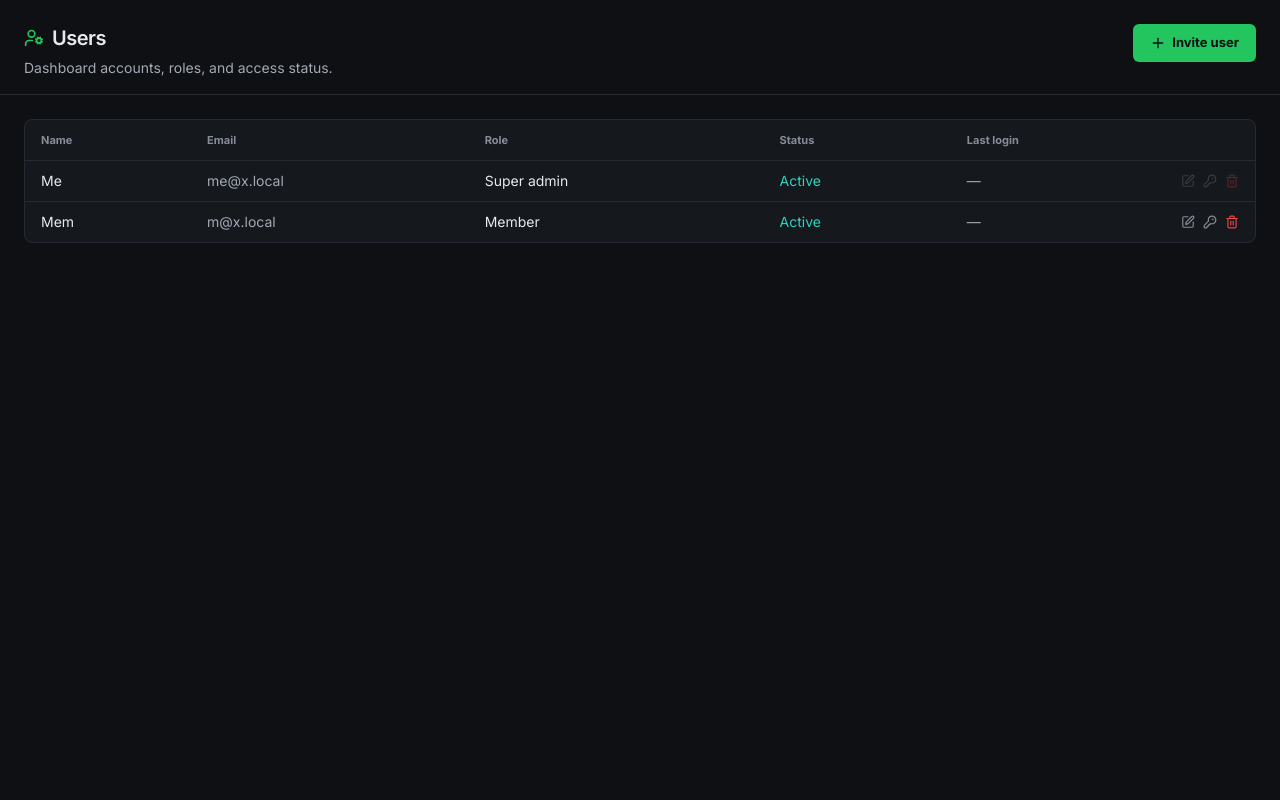
Test: Users page — reset password › shows the link once when the server could not email it
This screenshot has width=1280, height=800.
Expected: the text "m@x.local" is shown, x1=191 y1=202 x2=469 y2=242
Click the button named "Reset password" in the row of "m@x.local" at (1210, 222), box x1=1203 y1=215 x2=1217 y2=229
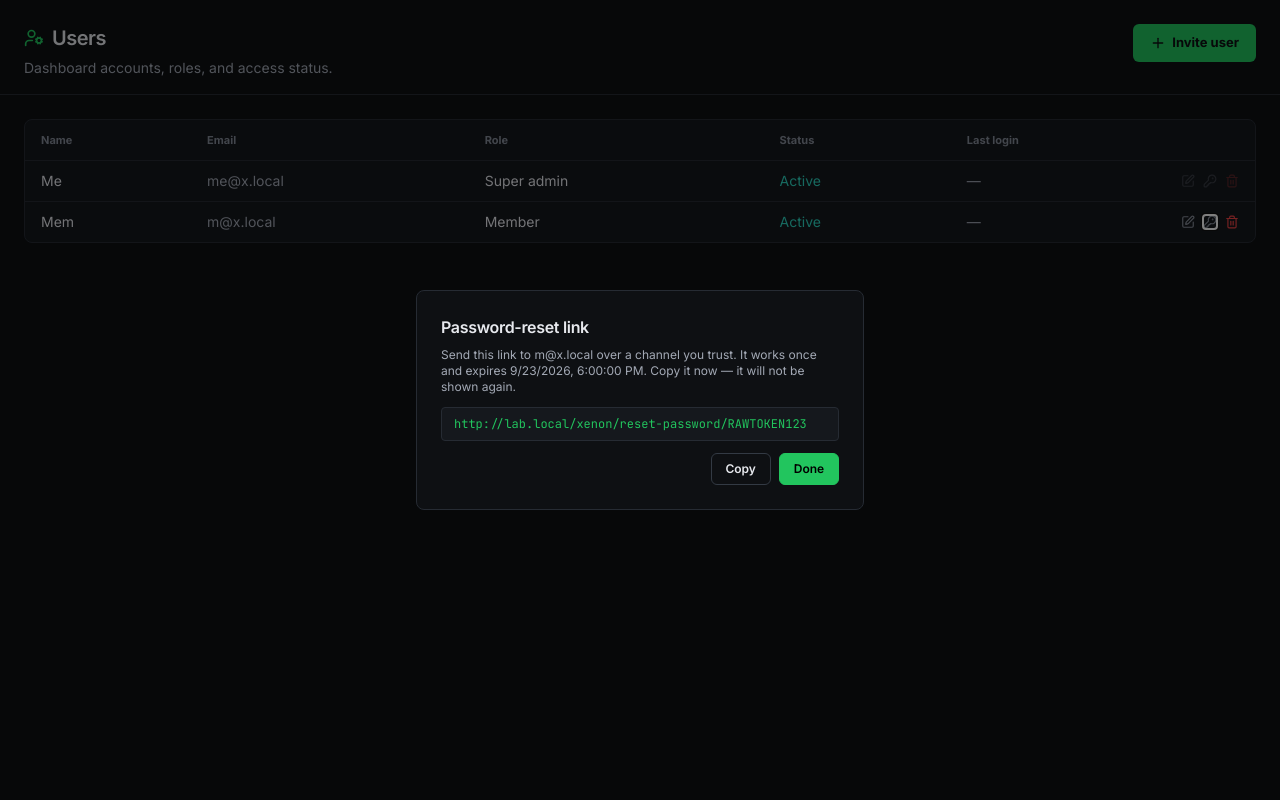
Expected: the dialog shows "Password-reset link", x1=441 y1=317 x2=589 y2=337
Expected: the text "http://lab.local/xenon/reset-password/RAWTOKEN123" is shown, x1=441 y1=407 x2=839 y2=441
